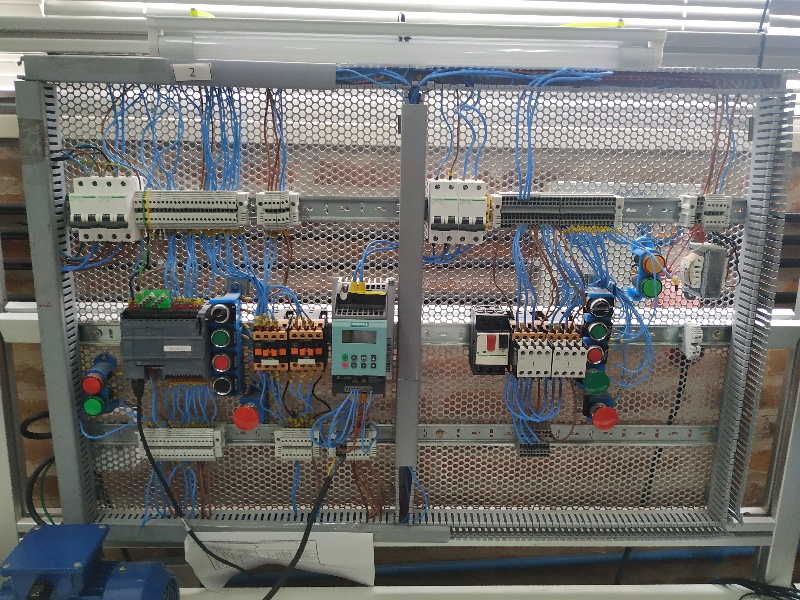Tablero 2: (35, 72, 761, 534)
